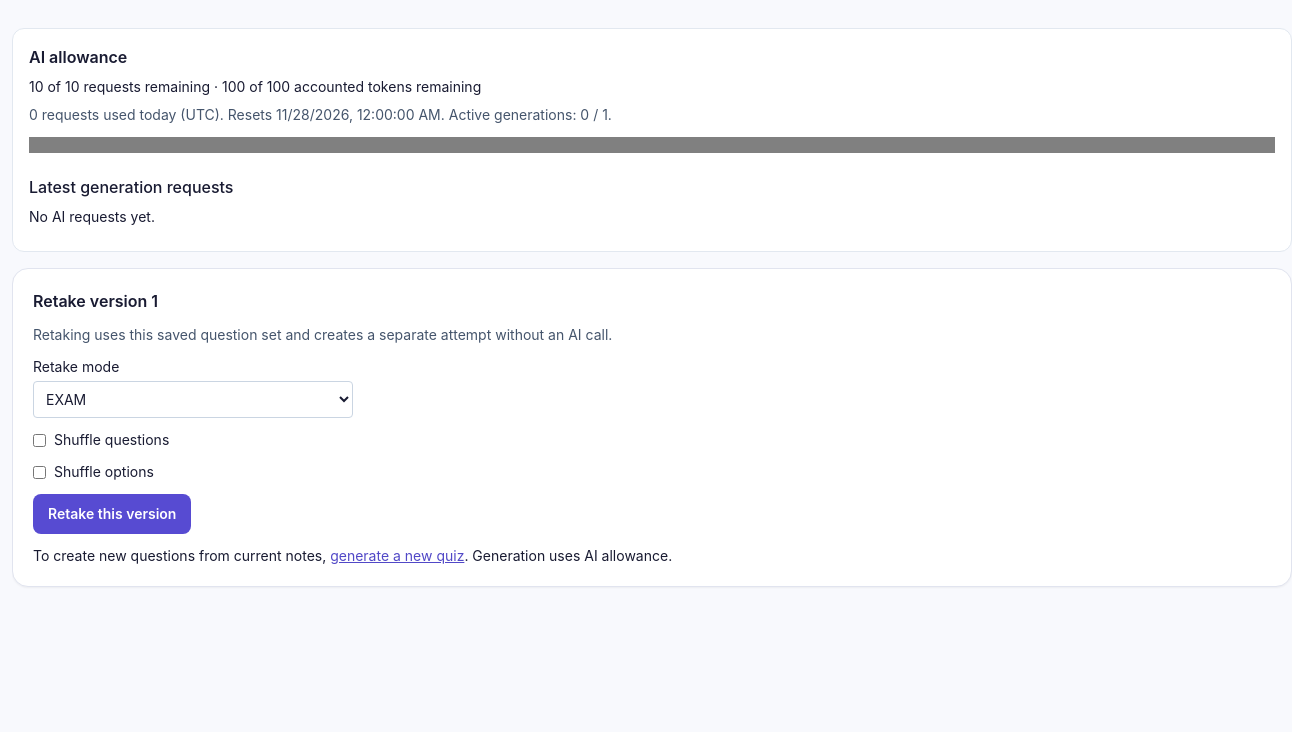
replaces exhausted account usage and still allows a saved quiz retake
Later steps or results of the test are not shown.
Expected: the text "10 of 10 requests remaining" is shown, [29,78,481,95]
What coordinates should you click on to do the following:
click the button "Retake this version"
I would click on:
 (112, 514)
Its box is [33,494,191,534].
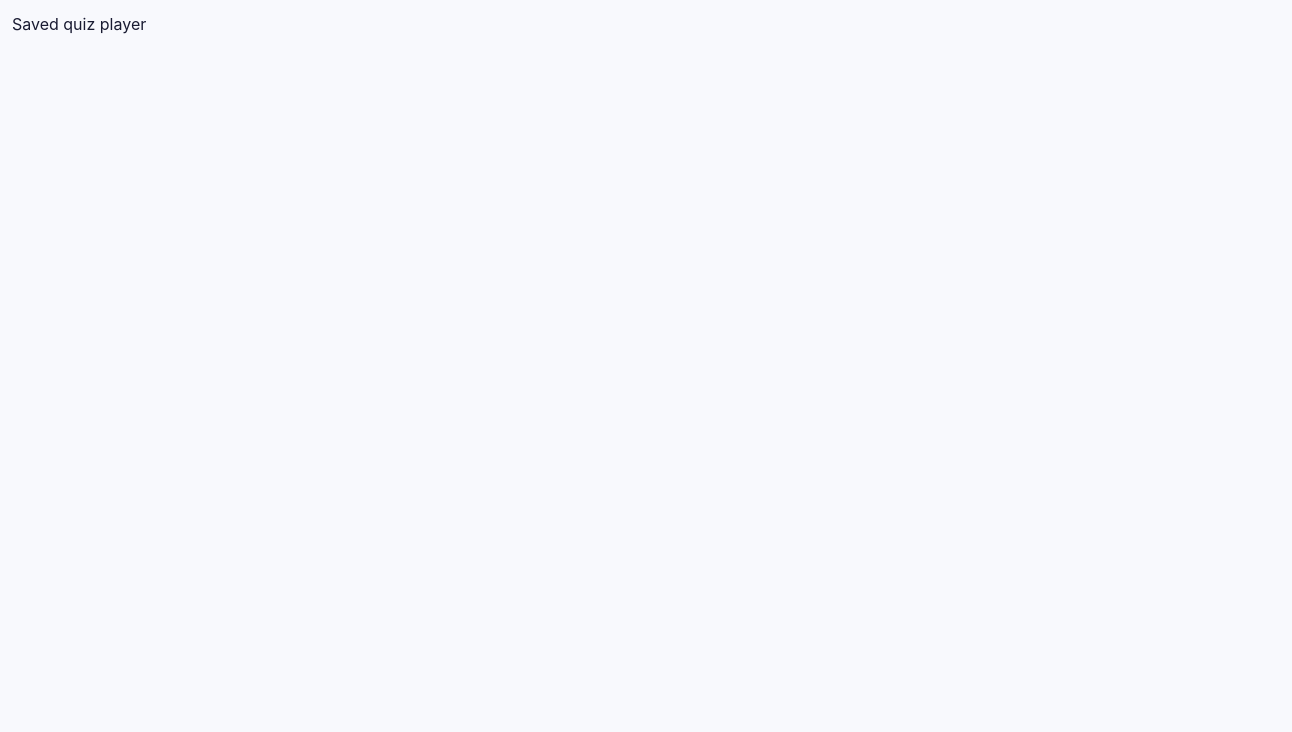
Now the text "Saved quiz player" is shown, box [12,14,146,34]
